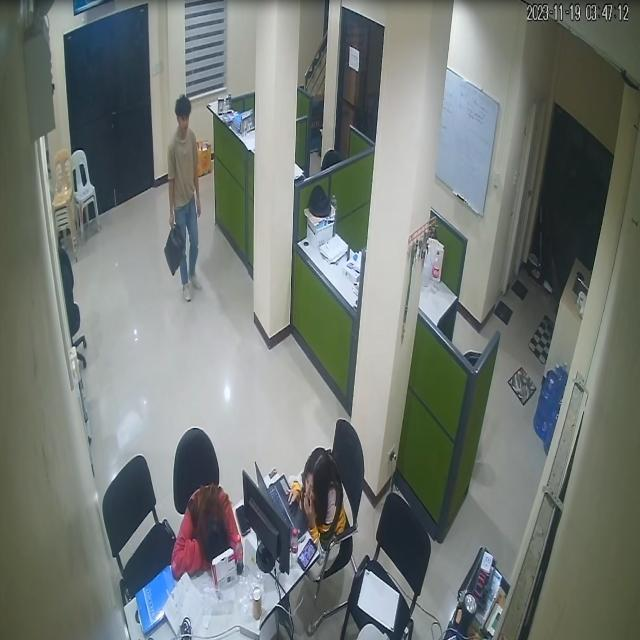garbage: (166, 229, 186, 273)
person: (172, 468, 246, 594), (164, 95, 205, 302), (286, 452, 352, 552)
